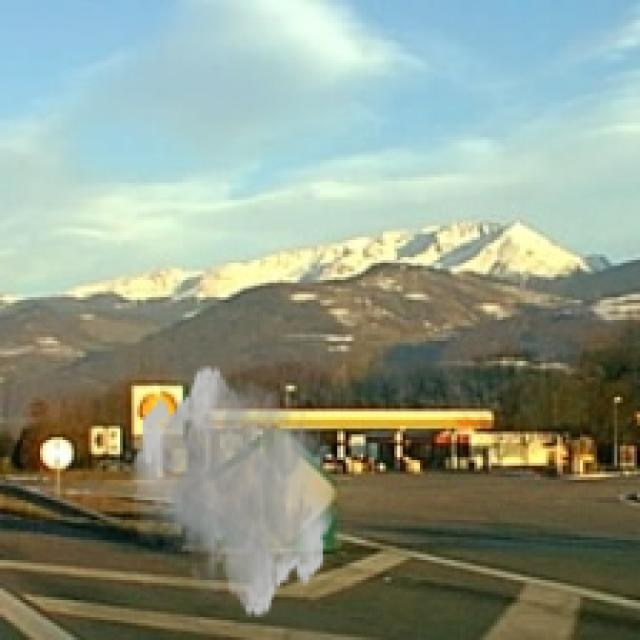smoke: (129, 363, 337, 620)
